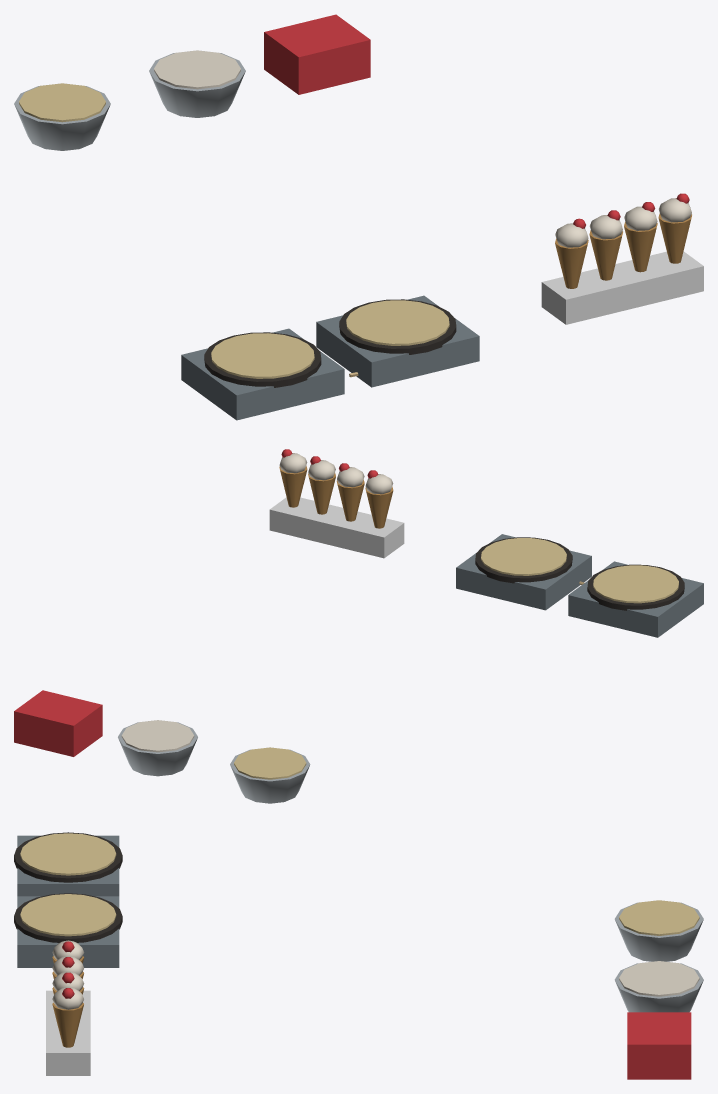
The model's file is goods_crepe.glb.
3 views of the same model, one above another, from view 1: azimuth 30°, elevation 25°; view 2: azimuth 150°, elevation 25°; view 3: azimuth 270°, elevation 25° (orthographic). The views are drawn at different scales.
Visible parts, largest first — view 1: goods_crepe; view 2: goods_crepe; view 3: goods_crepe.
Boxes of the visible parts, bbox=[...] form: goods_crepe: bbox=[14, 14, 703, 420]; goods_crepe: bbox=[14, 449, 703, 803]; goods_crepe: bbox=[14, 832, 703, 1079].
Bounding box in the file's own units: 1.61 × 0.332 × 2.16.
